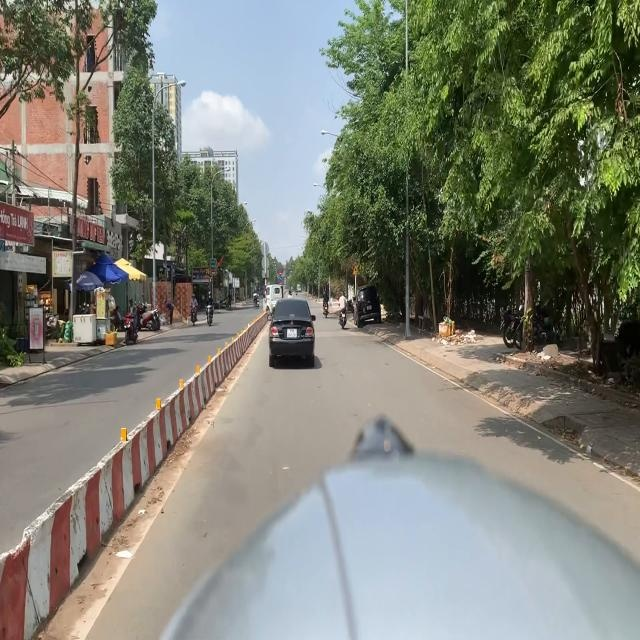bien_nguy_hiem: (279, 270, 282, 276), (279, 276, 282, 281)
